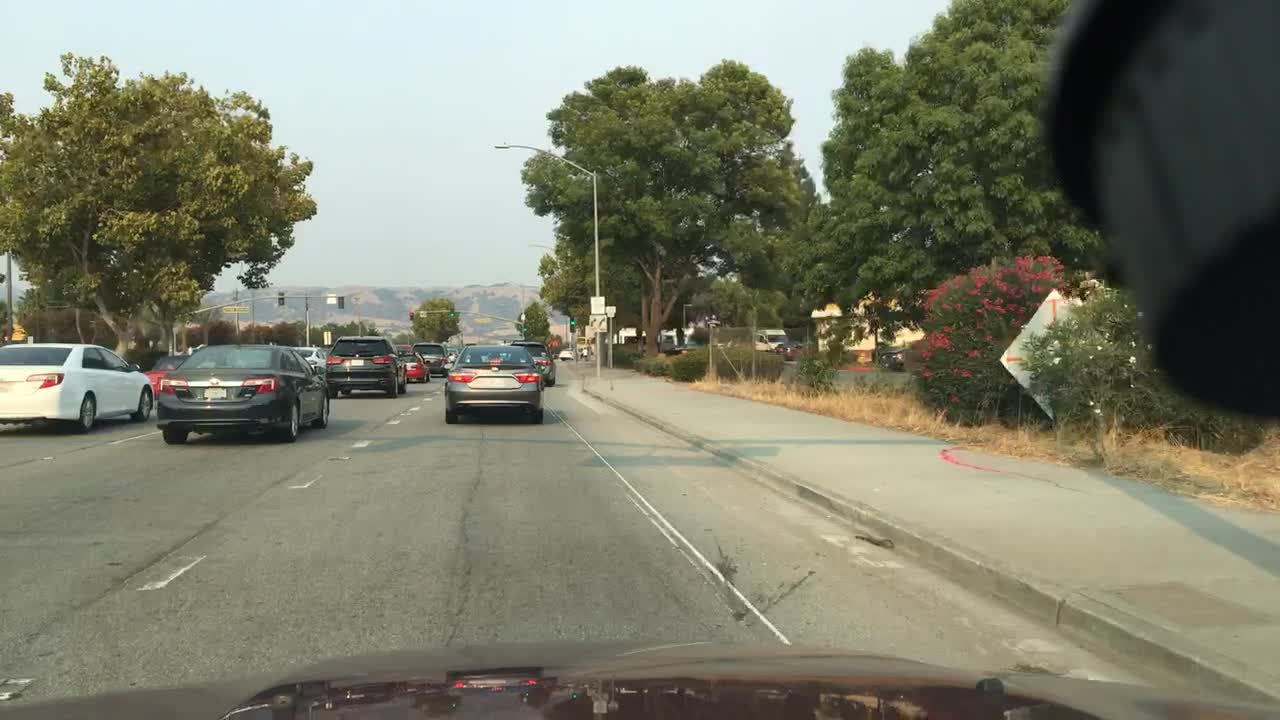bus: (574, 335, 596, 354)
car: (155, 341, 326, 445), (0, 343, 153, 434), (444, 343, 543, 422), (326, 336, 407, 397), (508, 339, 556, 385), (138, 353, 187, 398), (288, 346, 329, 387), (404, 341, 445, 375), (394, 350, 431, 383), (878, 344, 908, 371), (756, 328, 787, 350), (441, 344, 462, 374), (773, 343, 800, 353), (662, 344, 688, 354), (391, 343, 411, 355), (557, 348, 577, 358)
person: (577, 345, 584, 357), (583, 345, 589, 357)
traffic light: (12, 327, 26, 340), (275, 292, 285, 304), (336, 295, 344, 308), (407, 308, 415, 321), (569, 316, 574, 331), (448, 306, 454, 317), (522, 324, 528, 334)
traffic sign: (998, 290, 1091, 429), (587, 314, 609, 330), (590, 295, 604, 313), (223, 305, 250, 314), (604, 305, 618, 315), (322, 329, 331, 343), (326, 293, 336, 304), (418, 308, 428, 318), (584, 325, 594, 335), (26, 334, 34, 345), (519, 314, 527, 321)
